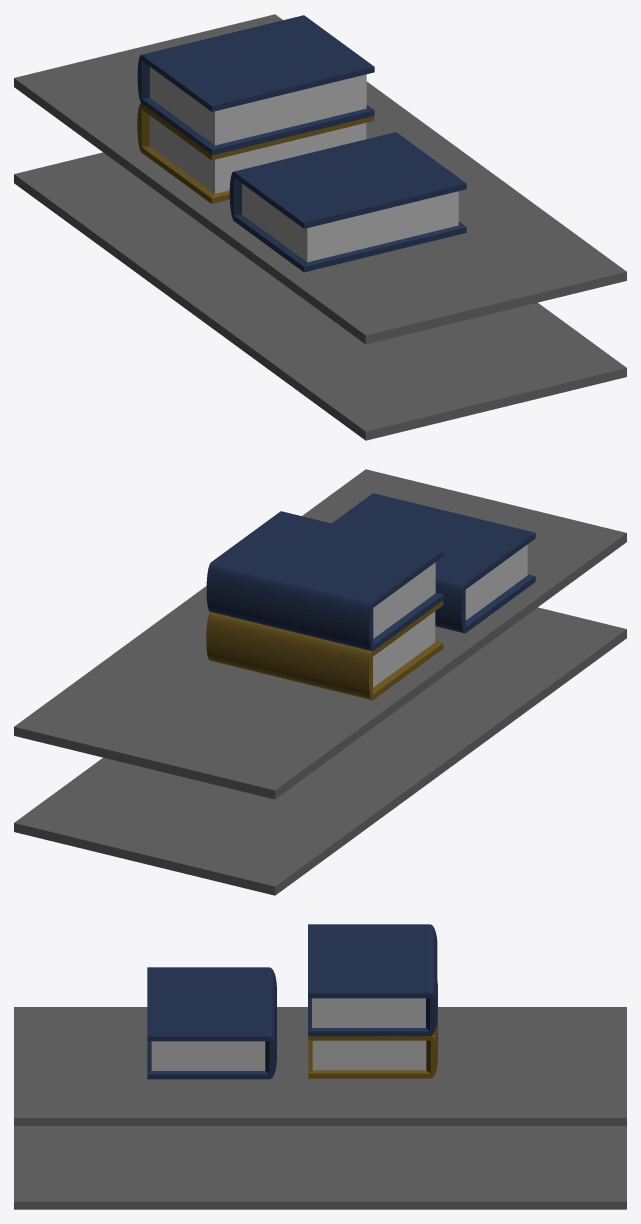
File: book_shelf.glb
The picture shows the model from 3 angles, top to bottom: view 1: azimuth 30°, elevation 25°; view 2: azimuth 150°, elevation 25°; view 3: azimuth 270°, elevation 25°; orthographic projection. The views are drawn at different scales.
Visible parts, largest first — view 1: Cube.001, Cube, Circle.002, Circle.001, Circle; view 2: Cube.001, Cube, Circle.001, Circle.002, Circle; view 3: Cube, Cube.001, Circle.002, Circle.001, Circle.
Boxes of the visible parts, x1,y1,x2,y2 form: Cube.001: [14, 152, 626, 440]; Cube: [14, 14, 626, 344]; Circle.002: [229, 132, 466, 272]; Circle.001: [137, 15, 374, 155]; Circle: [137, 103, 374, 203]; Cube.001: [14, 607, 626, 895]; Cube: [14, 469, 626, 799]; Circle.001: [206, 511, 443, 651]; Circle.002: [332, 493, 535, 633]; Circle: [206, 600, 443, 700]; Cube: [14, 1007, 626, 1125]; Cube.001: [14, 1126, 626, 1209]; Circle.002: [147, 967, 276, 1079]; Circle.001: [308, 924, 437, 1036]; Circle: [308, 981, 437, 1078].
Bounding box in the file's own units: 1.12 × 0.8489 × 2.61.
